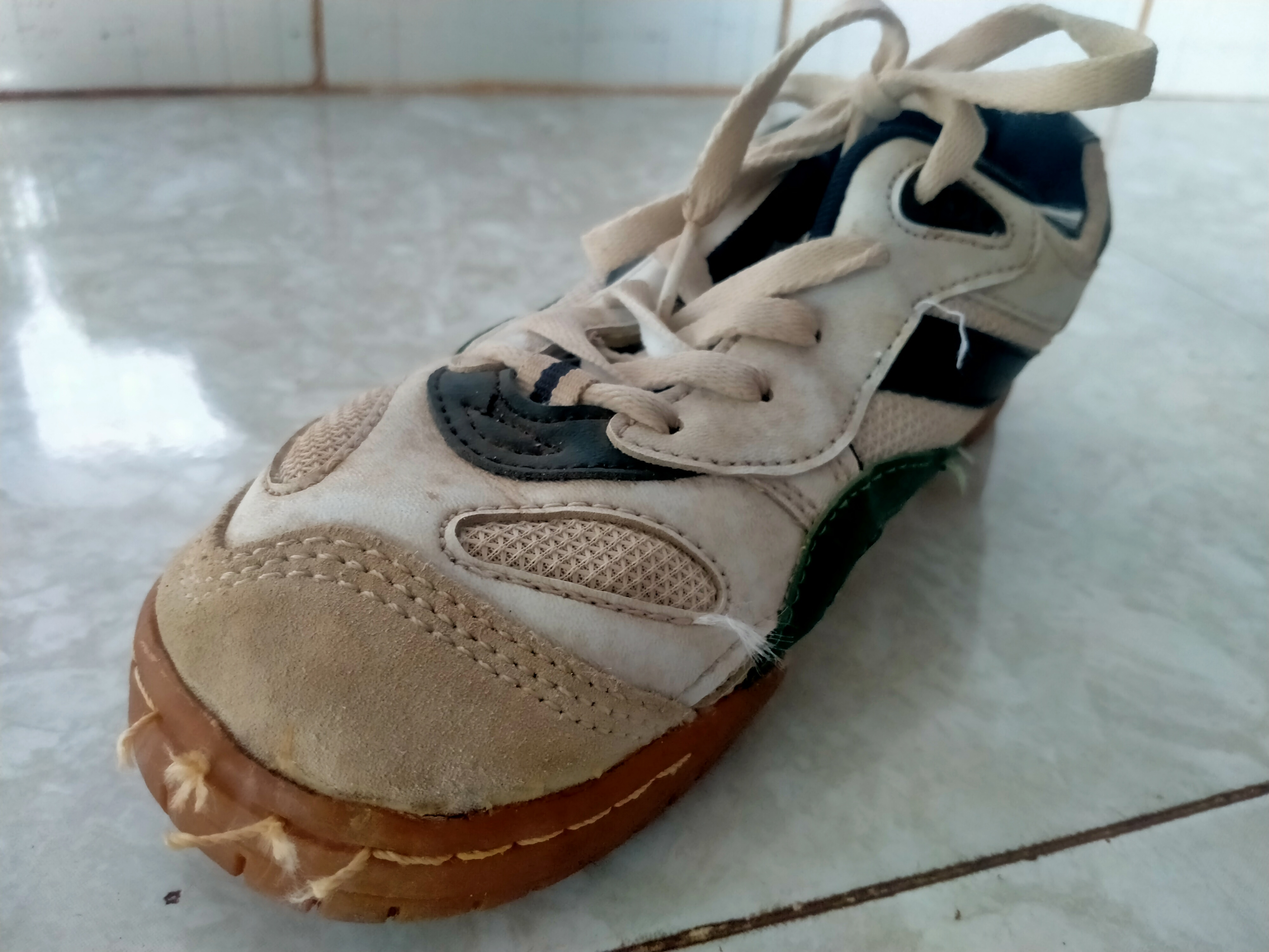broken: (146, 704, 374, 865), (865, 298, 925, 376)
